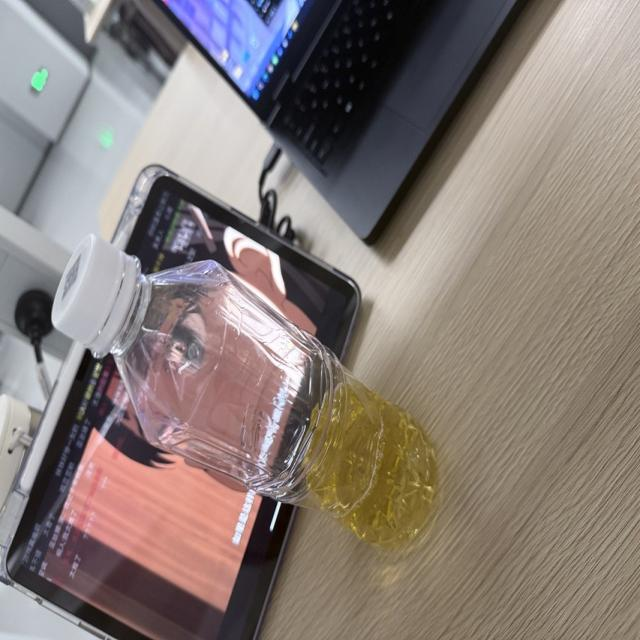low: (53, 235, 434, 543)
